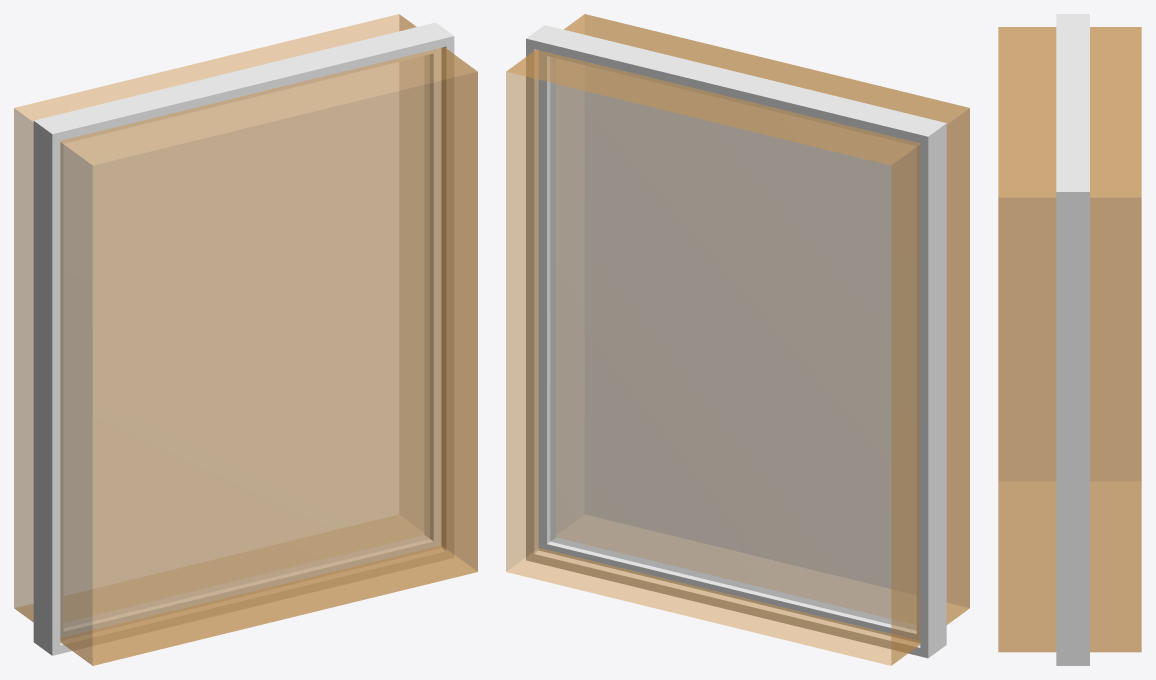
File: window2.glb
The picture shows the model from 3 angles, left to right: view 1: azimuth 30°, elevation 25°; view 2: azimuth 150°, elevation 25°; view 3: azimuth 270°, elevation 25°; orthographic projection. The views are drawn at different scales.
Visible parts, largest first — view 1: _bool.001, glass, frame.001; view 2: _bool.001, glass, frame.001; view 3: _bool.001, frame.001.
Boxes of the visible parts, x1=… form: _bool.001: x1=14, y1=14, x2=477, y2=665; glass: x1=64, y1=54, x2=429, y2=627; frame.001: x1=33, y1=22, x2=454, y2=655; _bool.001: x1=506, y1=14, x2=969, y2=665; glass: x1=550, y1=57, x2=916, y2=630; frame.001: x1=526, y1=25, x2=946, y2=658; _bool.001: x1=998, y1=27, x2=1141, y2=652; frame.001: x1=1056, y1=14, x2=1089, y2=665.
Bounding box in the file's own units: 1.21 × 1.5 × 0.4112.
